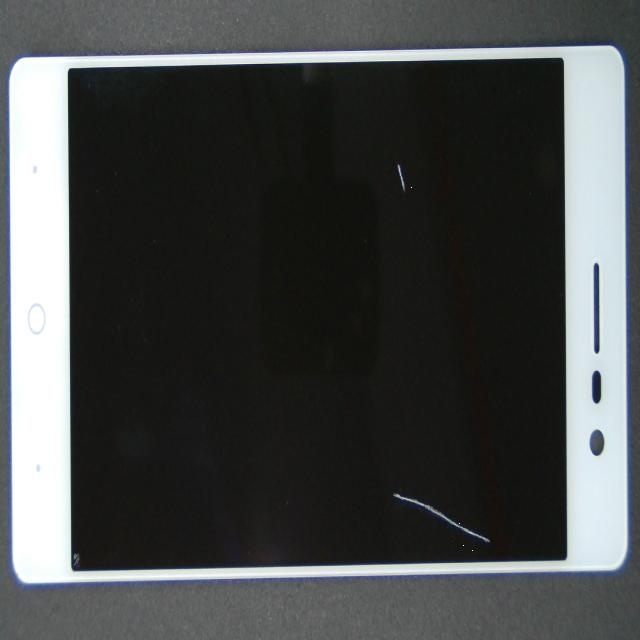scratch: (137, 228, 624, 640), (204, 52, 587, 248)
